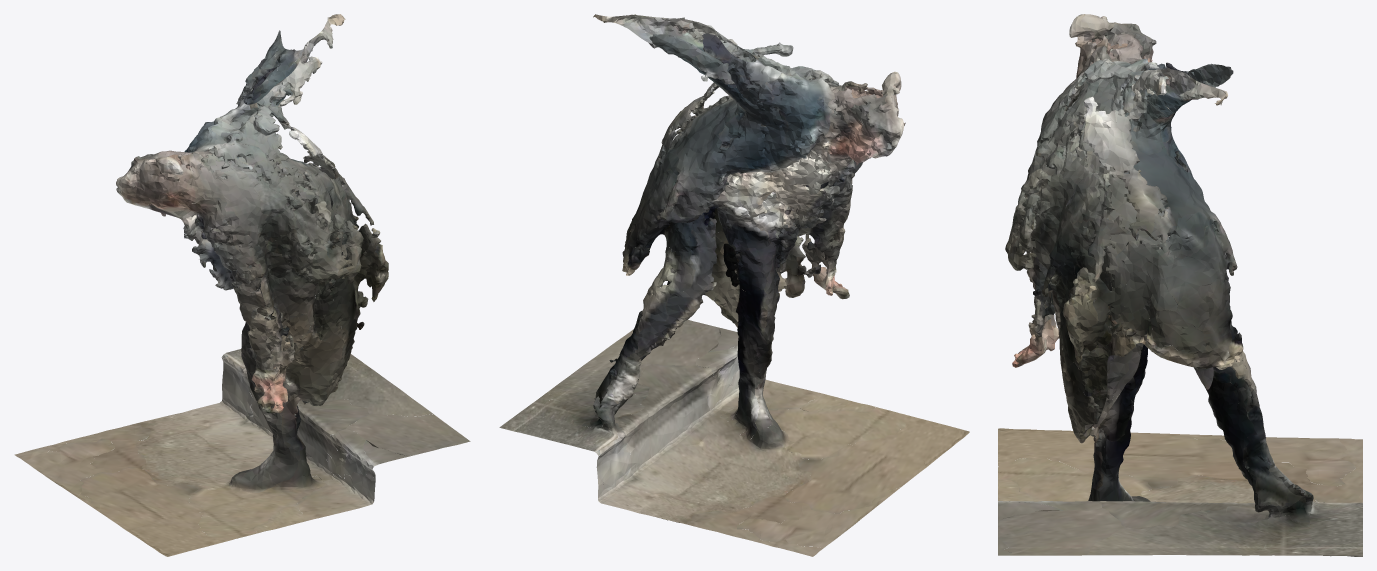
File: S007_PigEars.glb
3 renders of one model, left to right at view 1: azimuth 30°, elevation 25°; view 2: azimuth 150°, elevation 25°; view 3: azimuth 270°, elevation 25°, orthographic. The views are drawn at different scales.
Visible parts, largest first — view 1: Object_4; view 2: Object_4; view 3: Object_4.
Part boxes in pixels (left/top/right/bottom): Object_4: left=14, top=14, right=470, bottom=556; Object_4: left=499, top=14, right=969, bottom=556; Object_4: left=998, top=14, right=1362, bottom=556.
Bounding box in the file's own units: 4.47 × 5.88 × 3.89.
1 material, 1 textured.
